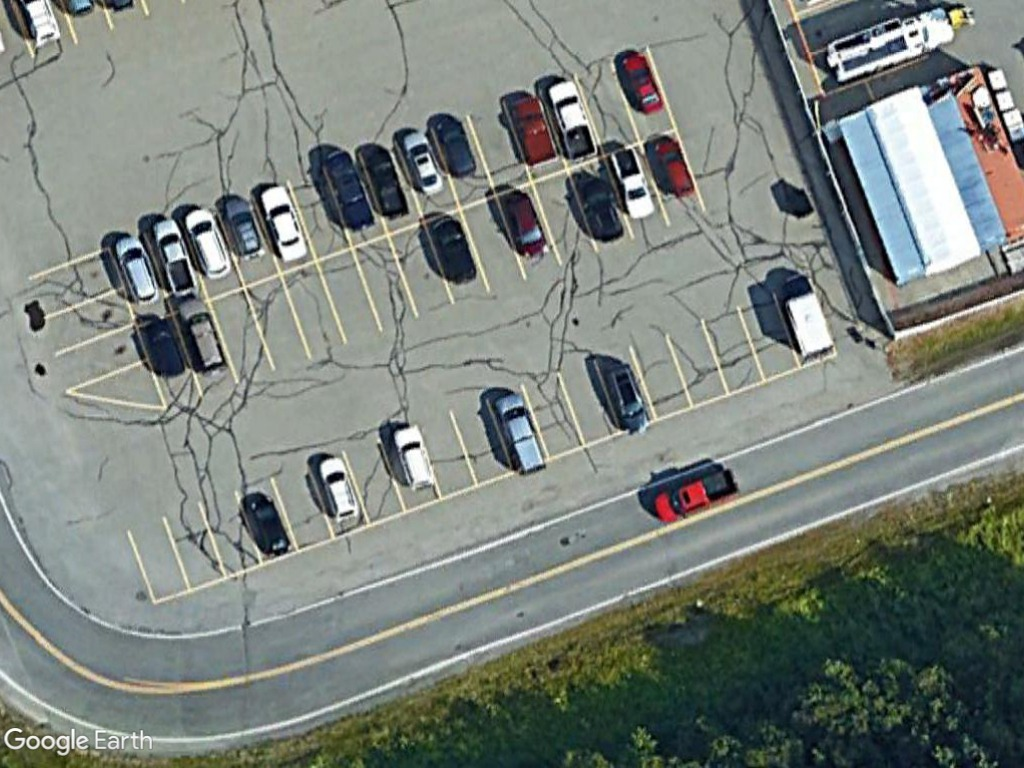car: (320, 146, 375, 233), (175, 295, 233, 376), (257, 182, 311, 267), (508, 92, 560, 172), (110, 233, 163, 307), (391, 419, 439, 498), (183, 206, 232, 283), (399, 128, 448, 198), (314, 452, 359, 526), (618, 48, 664, 117), (221, 194, 267, 262), (504, 188, 547, 260)
other: (645, 467, 737, 527), (145, 213, 202, 297), (543, 77, 595, 165), (604, 144, 656, 224)
truck: (776, 270, 835, 366)
van: (489, 391, 546, 477)
